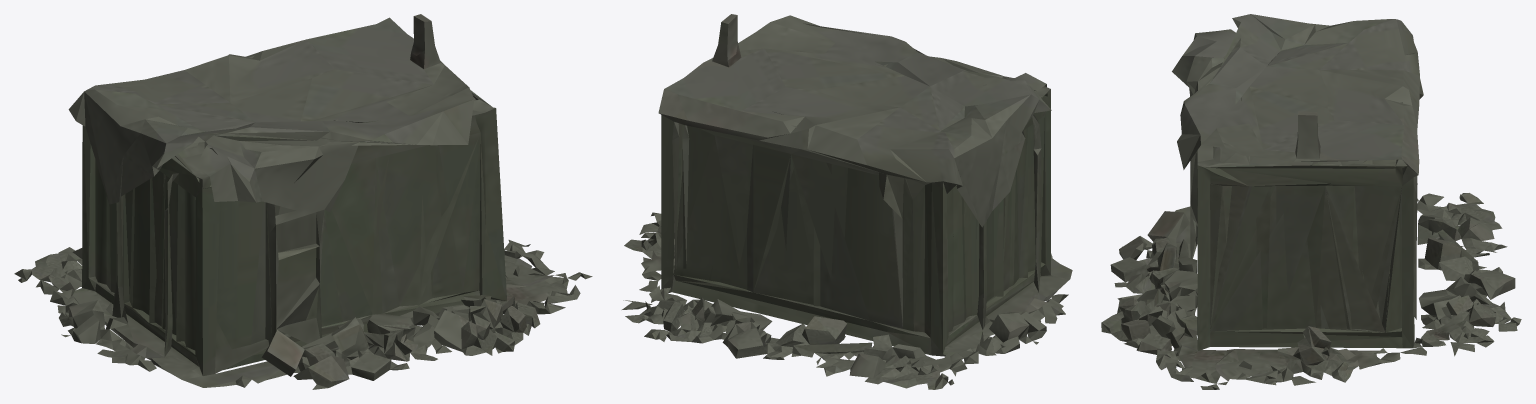
The model's file is cache.glb.
3 views of the same model, side by side, from view 1: azimuth 30°, elevation 25°; view 2: azimuth 150°, elevation 25°; view 3: azimuth 270°, elevation 25° (orthographic). The views are drawn at different scales.
Size of the model in its own units: 1.85 by 0.9659 by 1.6.
Materials: 1 (1 with a texture image).
